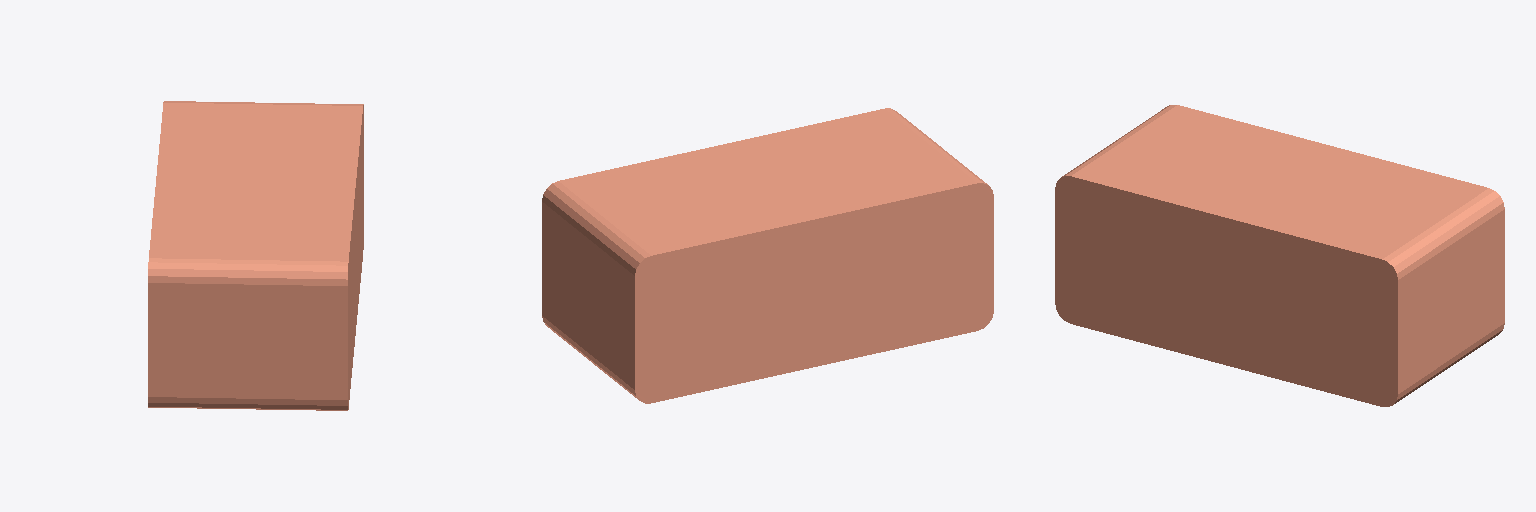
The model's file is car.obj.
3 renders of one model, left to right at view 1: azimuth 30°, elevation 25°; view 2: azimuth 150°, elevation 25°; view 3: azimuth 270°, elevation 25°, orthographic.
Visible parts, largest first — view 1: object_1; view 2: object_1; view 3: object_1.
Part boxes in pixels (x1,y1,x2,y2): object_1: (148,101,363,410); object_1: (542,108,993,403); object_1: (1055,105,1504,406).
Bounding box in the file's own units: 5.29 × 2.24 × 6.17.